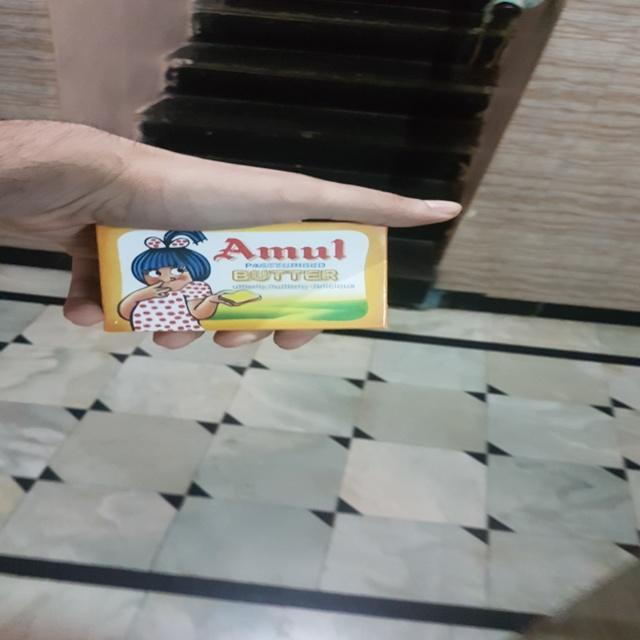butter: (78, 217, 414, 348)
